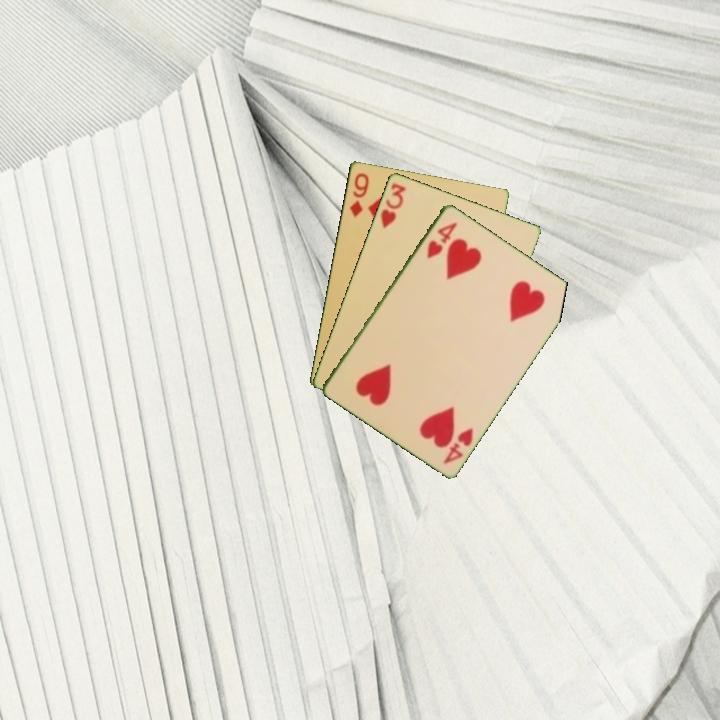3h: (376, 179, 409, 231)
4h: (423, 218, 460, 261), (439, 424, 476, 467)
9d: (346, 169, 372, 220)
